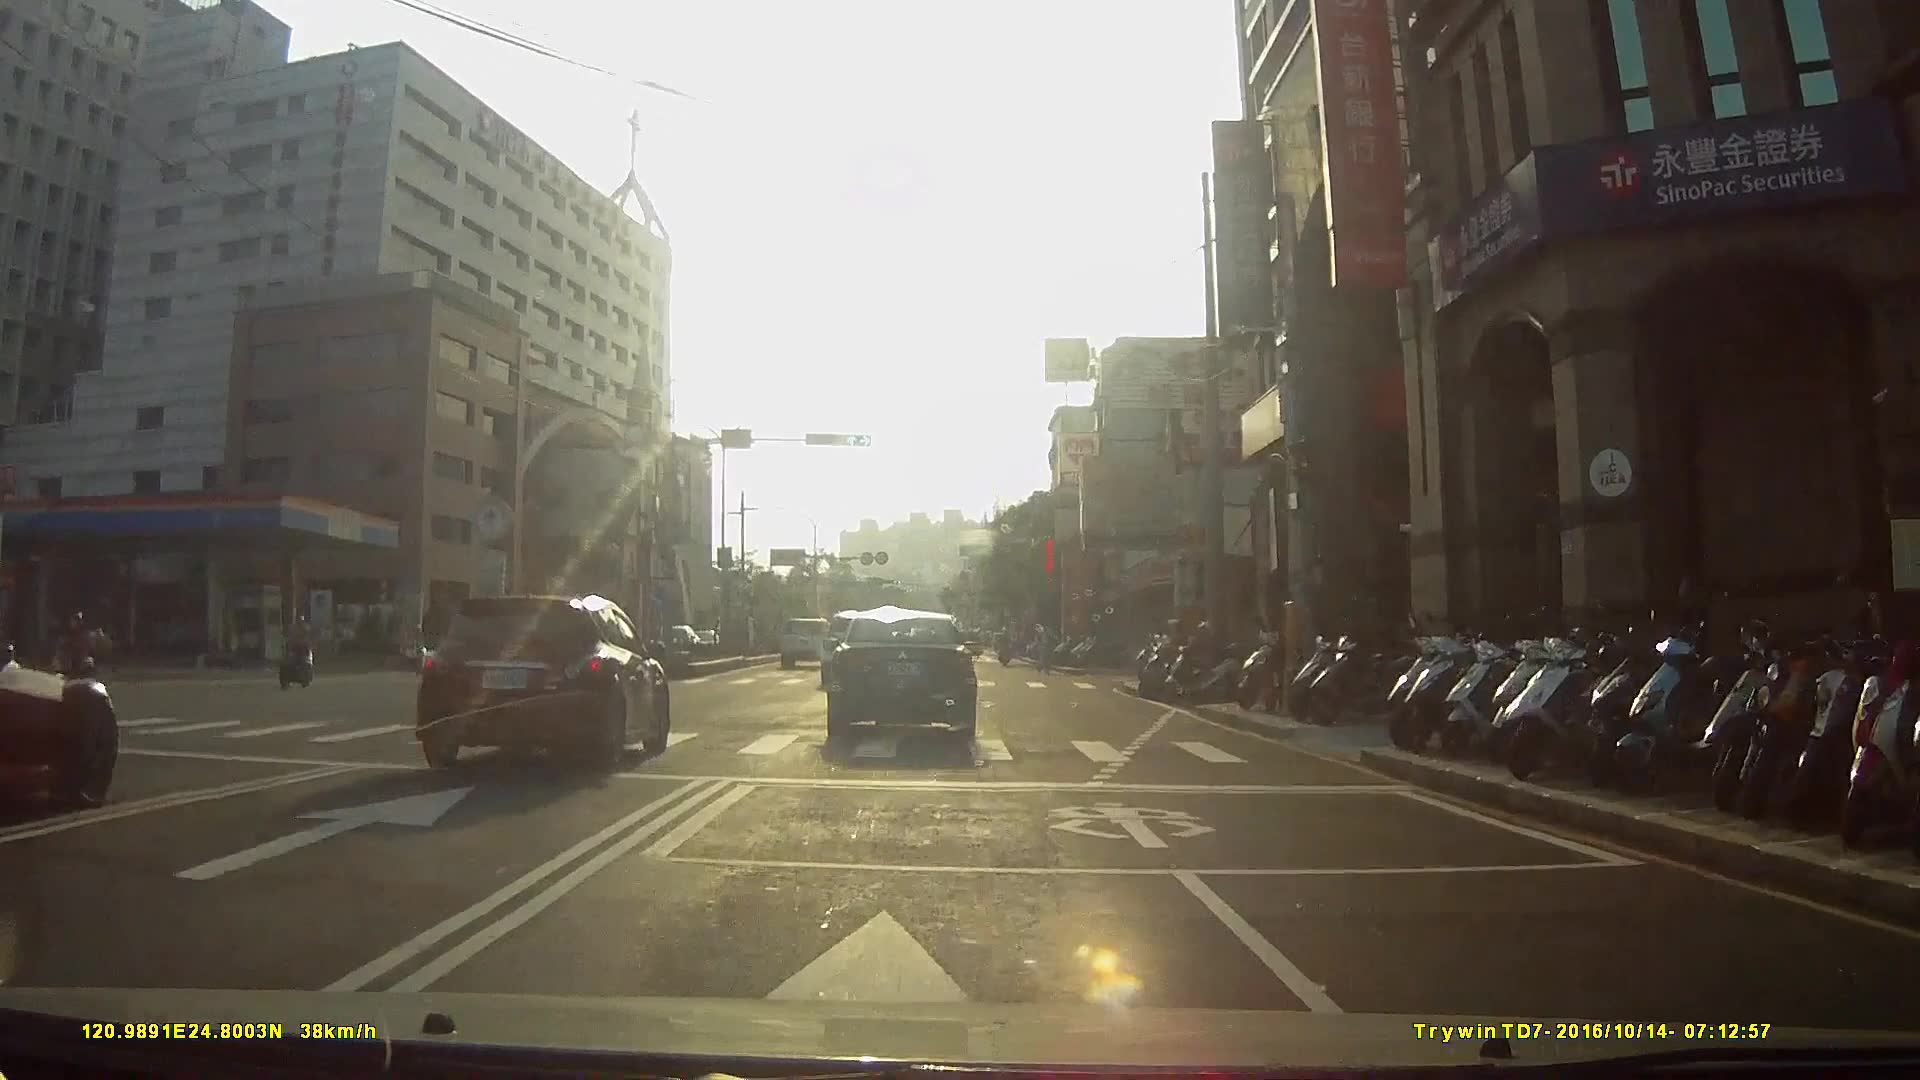rider: (1154, 618, 1251, 709), (48, 613, 96, 690), (278, 614, 320, 690), (399, 619, 423, 669)
vehicle: (407, 581, 686, 780), (1, 617, 144, 826), (821, 606, 988, 752), (781, 611, 840, 666)
